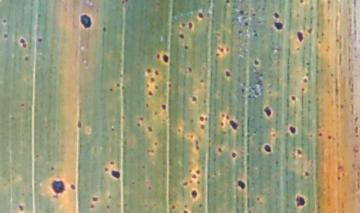tarspot: (80, 14, 92, 30), (53, 181, 64, 192), (296, 194, 305, 207), (229, 120, 239, 130), (273, 21, 284, 30), (296, 31, 304, 43), (263, 107, 272, 117), (19, 38, 27, 48), (111, 170, 120, 178), (162, 54, 169, 64), (194, 139, 200, 150), (238, 181, 246, 189), (264, 144, 271, 153), (191, 190, 198, 199), (289, 126, 296, 134), (76, 120, 82, 129), (307, 26, 313, 34), (198, 12, 204, 19), (225, 70, 231, 77), (296, 148, 302, 155), (302, 77, 308, 84), (52, 193, 59, 199), (192, 95, 197, 103), (188, 22, 193, 30), (273, 12, 279, 18), (336, 175, 342, 181), (216, 31, 221, 38), (225, 113, 230, 120), (147, 149, 155, 153), (3, 33, 8, 39), (102, 26, 107, 32), (161, 104, 166, 110), (183, 45, 189, 50), (154, 84, 159, 90), (153, 110, 158, 116), (199, 115, 204, 121), (218, 47, 224, 52), (254, 60, 260, 65), (240, 9, 245, 15), (244, 21, 249, 27), (318, 131, 323, 137), (327, 134, 332, 140), (70, 183, 75, 189), (157, 52, 161, 59), (24, 56, 29, 61), (146, 68, 151, 73), (147, 91, 152, 96), (180, 34, 185, 39), (35, 153, 40, 158), (50, 166, 55, 171), (110, 160, 115, 165), (104, 167, 109, 172), (121, 115, 126, 120), (196, 170, 201, 175), (192, 174, 197, 179), (339, 103, 344, 108), (122, 1, 128, 5), (188, 67, 192, 73), (168, 83, 172, 89), (111, 126, 115, 132), (201, 124, 205, 130), (189, 119, 195, 123), (218, 147, 222, 153), (232, 152, 236, 158), (292, 95, 296, 101), (305, 171, 309, 177), (148, 185, 152, 191), (252, 12, 256, 18), (37, 38, 42, 42), (155, 70, 159, 75), (150, 78, 155, 82), (139, 116, 143, 121), (148, 127, 152, 132), (154, 141, 158, 146), (177, 128, 181, 133), (220, 121, 224, 126), (216, 52, 220, 57), (226, 47, 230, 52), (221, 113, 225, 118), (301, 87, 305, 92), (183, 182, 188, 186), (196, 179, 200, 184), (256, 197, 260, 202), (199, 204, 204, 208), (93, 197, 98, 201), (19, 206, 23, 211), (106, 204, 110, 209), (108, 194, 112, 199), (306, 61, 310, 66), (238, 29, 242, 34), (146, 103, 149, 109), (298, 1, 304, 4), (3, 19, 7, 23), (137, 123, 141, 127), (21, 103, 25, 107), (182, 23, 186, 27), (146, 84, 150, 88), (119, 74, 123, 78), (254, 33, 258, 37), (189, 179, 193, 183), (172, 205, 176, 209), (184, 205, 188, 209), (91, 204, 95, 208), (117, 83, 120, 88), (200, 78, 203, 83), (183, 210, 188, 213), (247, 210, 252, 213), (110, 88, 113, 92), (190, 135, 194, 138), (226, 1, 230, 4), (142, 166, 145, 169)
